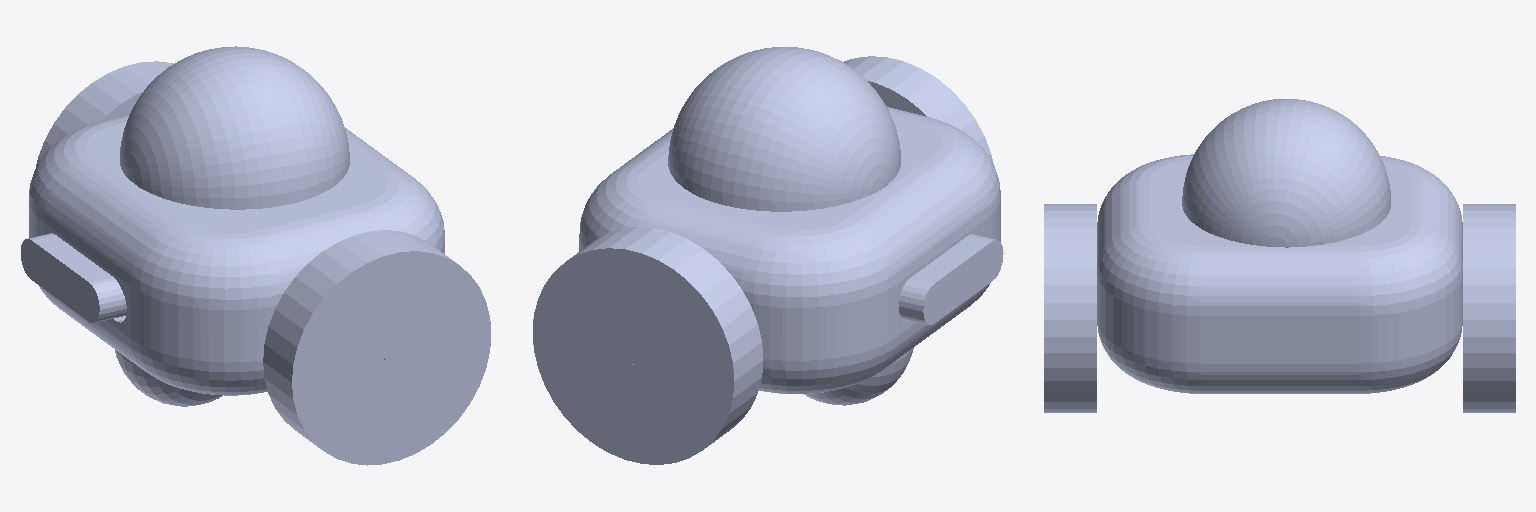
URDF robot description (mark_fbj1):
<?xml version="1.0" encoding="utf-8"?>
<!-- This URDF was automatically created by SolidWorks to URDF Exporter! Originally created by [author] ([email redacted]) 
     Commit Version: 1.6.0-4-g7f85cfe  Build Version: 1.6.7995.38578
     For more information, please see http://wiki.ros.org/sw_urdf_exporter -->
<robot
  name="mark_fbj1">
  <link
    name="base_link">
    <inertial>
      <origin
        xyz="-0.033289 -0.125 0.022731"
        rpy="0 0 0" />
      <mass
        value="3" />
      <inertia
        ixx="0.0013939"
        ixy="-8.9385E-13"
        ixz="7.9629E-06"
        iyy="0.0010651"
        iyz="-9.055E-12"
        izz="0.0020002" />
    </inertial>
    <visual>
      <origin
        xyz="0 0 0"
        rpy="0 0 0" />
      <geometry>
        <mesh
          filename="package://mark_fbj1/meshes/base_link1.STL" />
      </geometry>
      <material
        name="">
        <color
          rgba="0.79216 0.81961 0.93333 1" />
      </material>
    </visual>
    <collision>
      <origin
        xyz="0 0 0"
        rpy="0 0 0" />
      <geometry>
        <mesh
          filename="package://mark_fbj1/meshes/base_link1.STL" />
      </geometry>
    </collision>
  </link>
  <link
    name="right_wheel">
    <inertial>
      <origin
        xyz="1.3878E-17 1.7347E-18 -0.01"
        rpy="0 0 0" />
      <mass
        value="2" />
      <inertia
        ixx="4.3543E-05"
        ixy="-2.6386E-37"
        ixz="-4.4116E-24"
        iyy="4.3543E-05"
        iyz="-4.6061E-38"
        izz="8.0422E-05" />
    </inertial>
    <visual>
      <origin
        xyz="0 0 0"
        rpy="0 0 0" />
      <geometry>
        <mesh
          filename="package://mark_fbj1/meshes/right_wheel.STL" />
      </geometry>
      <material
        name="">
        <color
          rgba="0.79216 0.81961 0.93333 1" />
      </material>
    </visual>
    <collision>
      <origin
        xyz="0 0 0"
        rpy="0 0 0" />
      <geometry>
        <mesh
          filename="package://mark_fbj1/meshes/right_wheel.STL" />
      </geometry>
    </collision>
  </link>
  <joint
    name="right_wheel_joint"
    type="continuous">
    <origin
      xyz="-0.023709 -0.055 0.01262"
      rpy="1.5708 0 0" />
    <parent
      link="base_link" />
    <child
      link="right_wheel" />
    <axis
      xyz="0 0 1" />
  </joint>
  <link
    name="left_wheel">
    <inertial>
      <origin
        xyz="-3.4694E-18 1.7347E-18 0.01"
        rpy="0 0 0" />
      <mass
        value="2" />
      <inertia
        ixx="4.3543E-05"
        ixy="-2.6386E-37"
        ixz="5.6028E-22"
        iyy="4.3543E-05"
        iyz="-9.0544E-38"
        izz="8.0422E-05" />
    </inertial>
    <visual>
      <origin
        xyz="0 0 0"
        rpy="0 0 0" />
      <geometry>
        <mesh
          filename="package://mark_fbj1/meshes/left_wheel.STL" />
      </geometry>
      <material
        name="">
        <color
          rgba="0.79216 0.81961 0.93333 1" />
      </material>
    </visual>
    <collision>
      <origin
        xyz="0 0 0"
        rpy="0 0 0" />
      <geometry>
        <mesh
          filename="package://mark_fbj1/meshes/left_wheel.STL" />
      </geometry>
    </collision>
  </link>
  <joint
    name="left_wheel_joint"
    type="continuous">
    <origin
      xyz="-0.023709 -0.195 0.01262"
      rpy="1.5708 0 0" />
    <parent
      link="base_link" />
    <child
      link="left_wheel" />
    <axis
      xyz="0 0 1" />
  </joint>
  <link
    name="camera_link">
    <inertial>
      <origin
        xyz="0.0275 0.0074972 -0.00020497"
        rpy="0 0 0" />
      <mass
        value="0.011651" />
      <inertia
        ixx="4.2448E-07"
        ixy="-5.6178E-23"
        ixz="4.4281E-22"
        iyy="2.8411E-06"
        iyz="3.3945E-10"
        izz="2.8535E-06" />
    </inertial>
    <visual>
      <origin
        xyz="0 0 0"
        rpy="0 0 0" />
      <geometry>
        <mesh
          filename="package://mark_fbj1/meshes/camera_link.STL" />
      </geometry>
      <material
        name="">
        <color
          rgba="0.79216 0.81961 0.93333 1" />
      </material>
    </visual>
    <collision>
      <origin
        xyz="0 0 0"
        rpy="0 0 0" />
      <geometry>
        <mesh
          filename="package://mark_fbj1/meshes/camera_link.STL" />
      </geometry>
    </collision>
  </link>
  <joint
    name="camera_link_joint"
    type="prismatic">
    <origin
      xyz="-0.088567 -0.095601 0.023507"
      rpy="-3.1279 0 -1.5708" />
    <parent
      link="base_link" />
    <child
      link="camera_link" />
    <axis
      xyz="1 0 0" />
    <limit
      lower="0"
      upper="0"
      effort="0"
      velocity="0" />
  </joint>
  <link
    name="sensor_link">
    <inertial>
      <origin
        xyz="0.0047846 -0.043843 0.017736"
        rpy="0 0 0" />
      <mass
        value="0.077493" />
      <inertia
        ixx="4.1051E-05"
        ixy="2.9646E-21"
        ixz="4.3944E-21"
        iyy="4.1051E-05"
        iyz="1.7231E-19"
        izz="6.5429E-05" />
    </inertial>
    <visual>
      <origin
        xyz="0 0 0"
        rpy="0 0 0" />
      <geometry>
        <mesh
          filename="package://mark_fbj1/meshes/sensor_link.STL" />
      </geometry>
      <material
        name="">
        <color
          rgba="0.79216 0.81961 0.93333 1" />
      </material>
    </visual>
    <collision>
      <origin
        xyz="0 0 0"
        rpy="0 0 0" />
      <geometry>
        <mesh
          filename="package://mark_fbj1/meshes/sensor_link.STL" />
      </geometry>
    </collision>
  </link>
  <joint
    name="sensor_link_joint"
    type="prismatic">
    <origin
      xyz="-0.033162 -0.078327 0.052753"
      rpy="-0.0014827 0.013586 -0.10871" />
    <parent
      link="base_link" />
    <child
      link="sensor_link" />
    <axis
      xyz="0.10849 -0.9941 0" />
    <limit
      lower="0"
      upper="0"
      effort="0"
      velocity="0" />
  </joint>








  <!--レーザセンサを定義する-->
  <gazebo reference="sensor_link">
    <sensor type="ray" name="hokuyo">
    <!--sensor type="gpu_ray" name="hokuyo"-->
      <pose>0 0 0 0 0 0 </pose>
      <visualize>false</visualize>
      <update_rate>40</update_rate>
      <ray>
        <scan>
          <horizontal>
            <samples>720</samples>
            <resolution>1</resolution>
            <min_angle>-1.570796</min_angle>
            <max_angle>1.570796</max_angle>
          </horizontal>
        </scan>
        <range>
          <min>0.10</min>
          <max>30.0</max>
          <resolution>0.01</resolution>
        </range>
        <noise>
          <type>gaussian</type>
          <!-- Noise parameters based on published spec for Hokuyo laser
               achieving "+-30mm" accuracy at range < 10m.  A mean of 0.0m and
               stddev of 0.01m will put 99.7% of samples within 0.03m of the true
               reading. -->
          <mean>0.0</mean>
          <stddev>0.01</stddev>
        </noise>

        </ray>
      <!--レーザセンサのためのプラグインを指定-->
      <plugin name="laser" filename="libgazebo_ros_laser.so">
      <!--plugin name="gpu_laser" filename="libgazebo_ros_gpu_laser.so"-->
        <topicName>/scan</topicName>
        <frameName>sensor_link</frameName>
      </plugin>
    </sensor>
  </gazebo>




  

  

  <gazebo reference="camera_link">
    <sensor type="camera" name="camera1">
      <update_rate>30.0</update_rate>
      <camera name="head">
        <pose>0 0 0 3.14 0 1.5707</pose>
        <horizontal_fov>1.3962634</horizontal_fov>
        <image>
          <width>1920</width>
          <height>1080</height>
          <format>R8G8B8</format>
        </image>
        <clip>
          <near>0.02</near>
          <far>300</far>
        </clip>
        <noise>
          <type>gaussian</type>
          <mean>0.0</mean>
          <stddev>0.007</stddev>
        </noise>
      </camera>
      <plugin name="camera_controller" filename="libgazebo_ros_camera.so">
        <alwaysOn>true</alwaysOn>
        <updateRate>0.0</updateRate>
        <cameraName>camera</cameraName>
        <imageTopicName>image_raw</imageTopicName>
        <cameraInfoTopicName>camera_info</cameraInfoTopicName>
        <frameName>camera_link</frameName>
        <hackBaseline>0.0</hackBaseline>
        <distortionK1>0.0</distortionK1>
        <distortionK2>0.0</distortionK2>
        <distortionK3>0.0</distortionK3>
        <distortionT1>0.0</distortionT1>
        <distortionT2>0.0</distortionT2>
      </plugin>
    </sensor>
  </gazebo>

  <gazebo>
    <plugin name="gazebo_ros_control" filename="libgazebo_ros_control.so">
      <robotNamespace>/camera_robot</robotNamespace>
      <robotSimType>gazebo_ros_control/DefaultRobotHWSim</robotSimType>
      <legacyModeNS>true</legacyModeNS>
    </plugin>
  </gazebo>



  <!-- ros_control plugin -->
  <gazebo>
    <plugin name="gazebo_ros_control" filename="libgazebo_ros_control.so">
      <robotNamespace>/mark_fbj</robotNamespace>
      <robotSimType>gazebo_ros_control/DefaultRobotHWSim</robotSimType>
      <legacyModeNS>true</legacyModeNS>
    </plugin>
  </gazebo>


  <transmission name="transmission1">
    <type>transmission_interface/SimpleTransmission</type>
    <joint name="right_wheel_joint">
      <hardwareInterface>hardware_interface/VelocityJointInterface</hardwareInterface>
    </joint>
    <actuator name="motor1">
      <mechanicalReduction>1</mechanicalReduction>
    </actuator>
  </transmission>

  <transmission name="transmission2">
    <type>transmission_interface/SimpleTransmission</type>
    <joint name="left_wheel_joint">
      <hardwareInterface>hardware_interface/VelocityJointInterface</hardwareInterface>
    </joint>
    <actuator name="motor2">
      <mechanicalReduction>1</mechanicalReduction>
    </actuator>
  </transmission>

  <gazebo reference="left_tip" />
  <gazebo reference="right_tip" />













</robot>

--- What the picture shows (computed from the rendered views, not written in the file) ---
Views: 3 orthographic renders of the robot side by side, from view 1: azimuth 30°, elevation 25°; view 2: azimuth 150°, elevation 25°; view 3: azimuth 270°, elevation 25°.
Robot: mark_fbj1 — 5 links, 4 joints (2 continuous, 2 prismatic); root link base_link; default pose: every joint at zero.
Links seen in each view (by area): view 1: base_link, left_wheel, sensor_link, camera_link, right_wheel; view 2: base_link, right_wheel, sensor_link, camera_link, left_wheel; view 3: base_link, sensor_link, right_wheel, left_wheel.
Boxes of the visible links, x1=… form: base_link: x1=29, y1=114, x2=444, y2=406; left_wheel: x1=263, y1=230, x2=490, y2=465; sensor_link: x1=120, y1=46, x2=349, y2=209; camera_link: x1=21, y1=233, x2=126, y2=322; right_wheel: x1=36, y1=61, x2=173, y2=166; base_link: x1=579, y1=107, x2=1000, y2=405; right_wheel: x1=533, y1=227, x2=763, y2=464; sensor_link: x1=668, y1=47, x2=900, y2=211; camera_link: x1=899, y1=234, x2=1003, y2=324; left_wheel: x1=843, y1=56, x2=993, y2=163; base_link: x1=1097, y1=154, x2=1462, y2=393; sensor_link: x1=1182, y1=99, x2=1390, y2=247; right_wheel: x1=1463, y1=204, x2=1515, y2=412; left_wheel: x1=1044, y1=204, x2=1096, y2=412.
Size in the robot's own frame: 0.13 by 0.18 by 0.1251 metres.
5 mesh visuals loaded from 5 distinct referenced files (5 binary STL).
